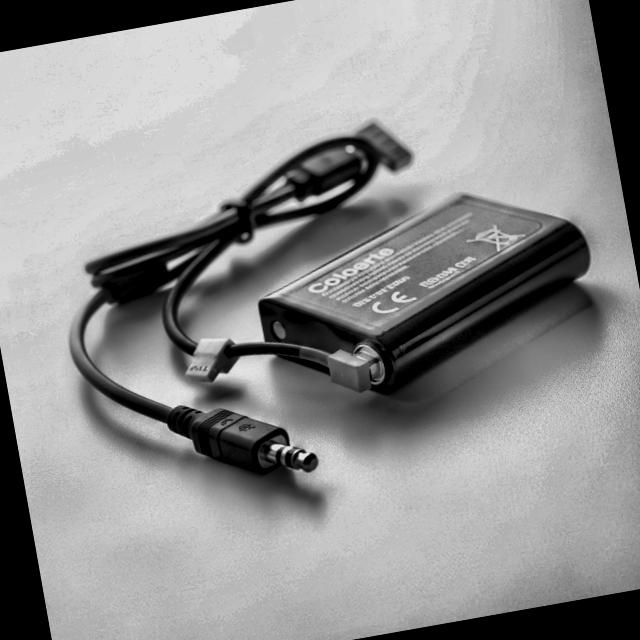Battery: (250, 172, 610, 408)
Cable: (46, 95, 431, 312), (65, 254, 387, 506)
